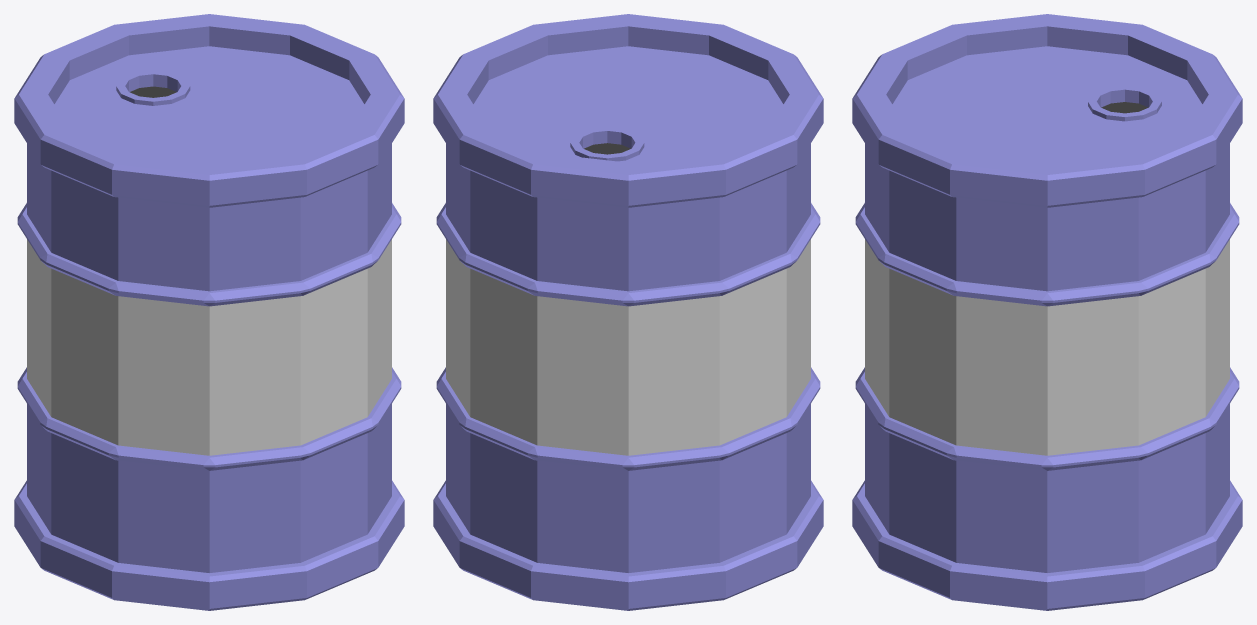
Rendered from barrel_a.glb.
3 views of the same model, side by side, from view 1: azimuth 30°, elevation 25°; view 2: azimuth 150°, elevation 25°; view 3: azimuth 270°, elevation 25° (orthographic).
Visible parts, largest first — view 1: Barrel A2; view 2: Barrel A2; view 3: Barrel A2.
Boxes of the visible parts, x1,y1,x2,y2 form: Barrel A2: [14, 14, 404, 610]; Barrel A2: [433, 14, 823, 610]; Barrel A2: [852, 14, 1242, 610].
Bounding box in the file's own units: 1.2 × 1.48 × 1.2.
